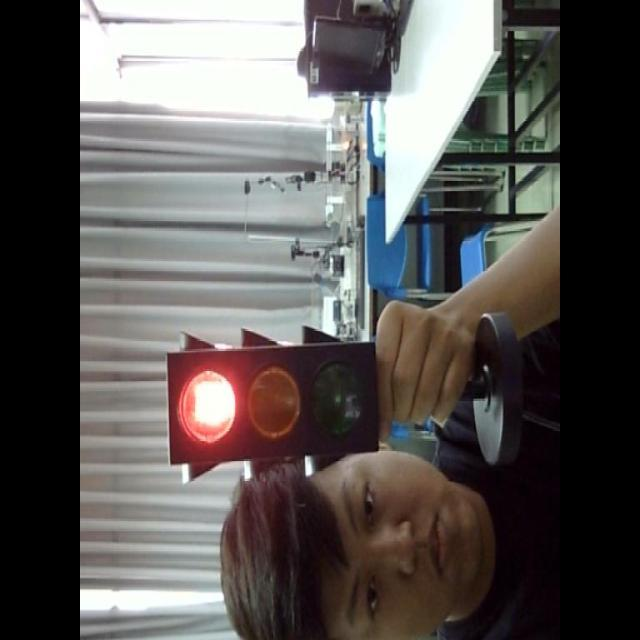red light: (178, 366, 236, 442)
